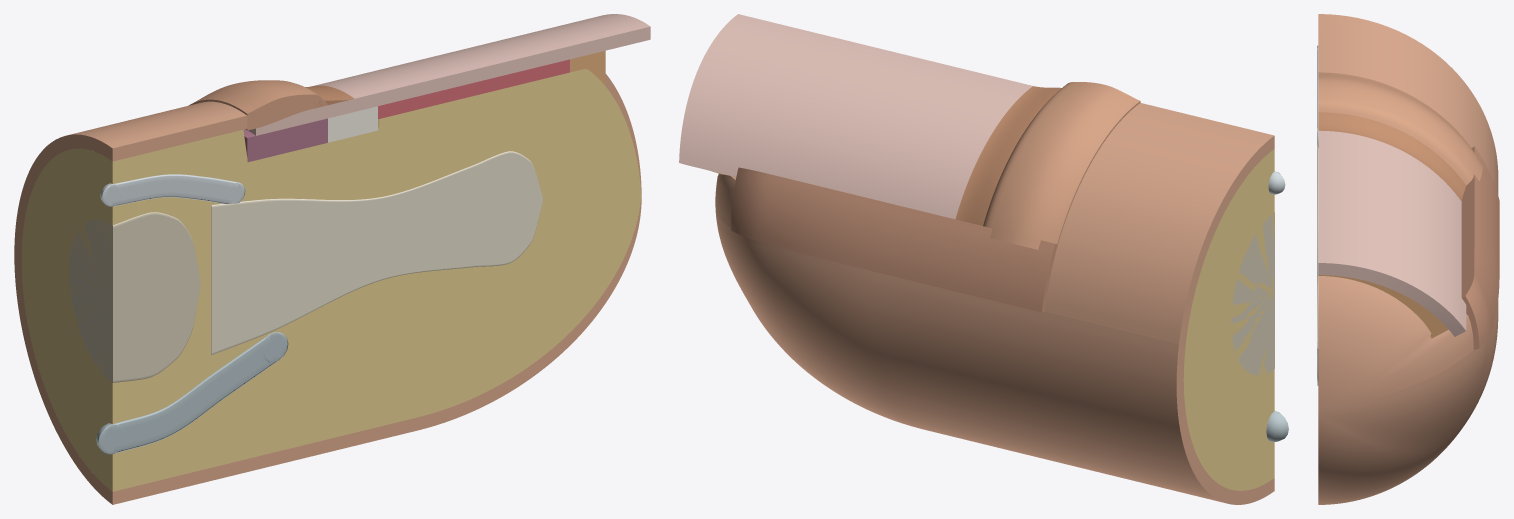
Rendered from nails.glb.
3 renders of one model, left to right at view 1: azimuth 30°, elevation 25°; view 2: azimuth 150°, elevation 25°; view 3: azimuth 270°, elevation 25°, orthographic. The views are drawn at different scales.
Parts seen in each view (by area): view 1: fingertip-pulp, distal-phalanx, middle-phalanx, skin, nail-plate, flexor-tendon, proximal-nail-fold, extensor-tendon, nail-bed, nail-matrix, lunula, hyponychium; view 2: skin, nail-plate, lateral-nail-fold, fingertip-pulp, proximal-nail-fold, middle-phalanx, eponychium; view 3: skin, nail-plate, proximal-nail-fold, lateral-nail-fold, eponychium, hyponychium, distal-phalanx.
Boxes of the visible parts, <box> form: fingertip-pulp: <box>21,69,641,491</box>; distal-phalanx: <box>211,151,542,354</box>; middle-phalanx: <box>69,212,200,382</box>; skin: <box>14,74,641,504</box>; nail-plate: <box>248,14,650,135</box>; flexor-tendon: <box>96,332,288,454</box>; proximal-nail-fold: <box>188,80,327,130</box>; extensor-tendon: <box>100,174,245,206</box>; nail-bed: <box>378,59,569,119</box>; nail-matrix: <box>243,118,327,162</box>; lunula: <box>328,106,377,142</box>; hyponychium: <box>570,50,605,85</box>; skin: <box>715,103,1274,504</box>; nail-plate: <box>679,14,1032,219</box>; lateral-nail-fold: <box>731,167,1057,312</box>; fingertip-pulp: <box>735,149,1274,490</box>; proximal-nail-fold: <box>983,82,1140,253</box>; middle-phalanx: <box>1231,212,1274,375</box>; eponychium: <box>955,86,1061,225</box>; skin: <box>1318,14,1498,504</box>; nail-plate: <box>1318,130,1466,336</box>; proximal-nail-fold: <box>1318,72,1482,185</box>; lateral-nail-fold: <box>1461,146,1499,349</box>; eponychium: <box>1318,112,1466,201</box>; hyponychium: <box>1318,275,1448,338</box>; distal-phalanx: <box>1317,148,1318,385</box>.
Bounding box in the file's own units: 3.08 × 1.95 × 0.9602.
